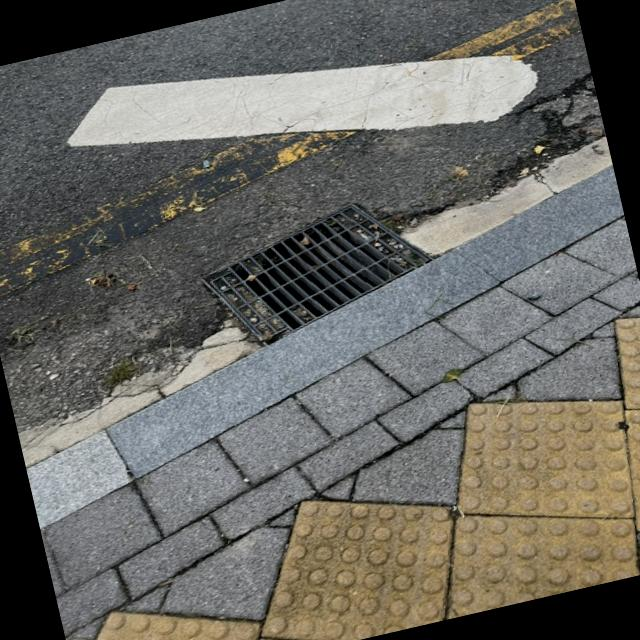drain_area: (232, 221, 405, 331)
drain_full: (202, 205, 431, 346)
